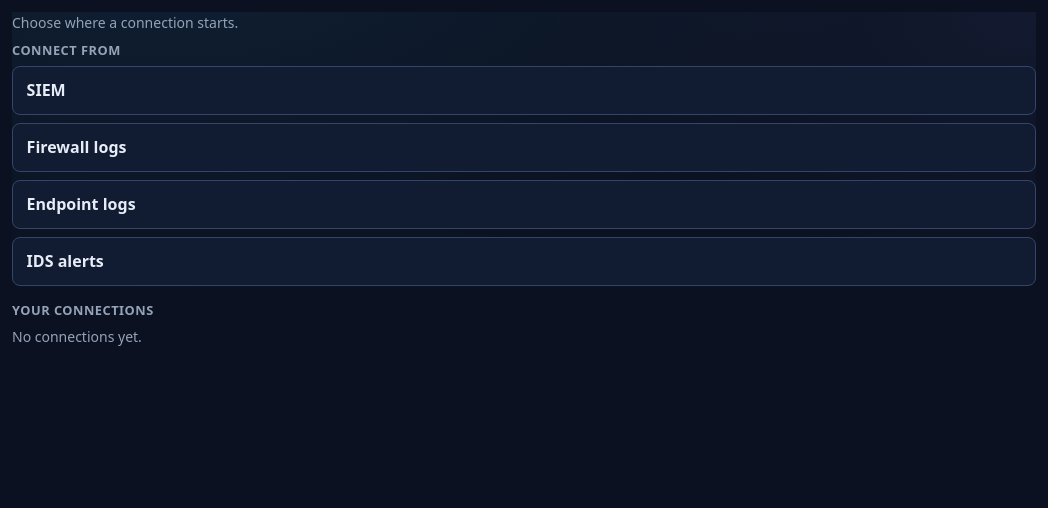
Test: MobileNodeConnection › resets the source and target after each relationship
Click the button "SIEM" at (46, 90), box [12, 66, 1036, 115]
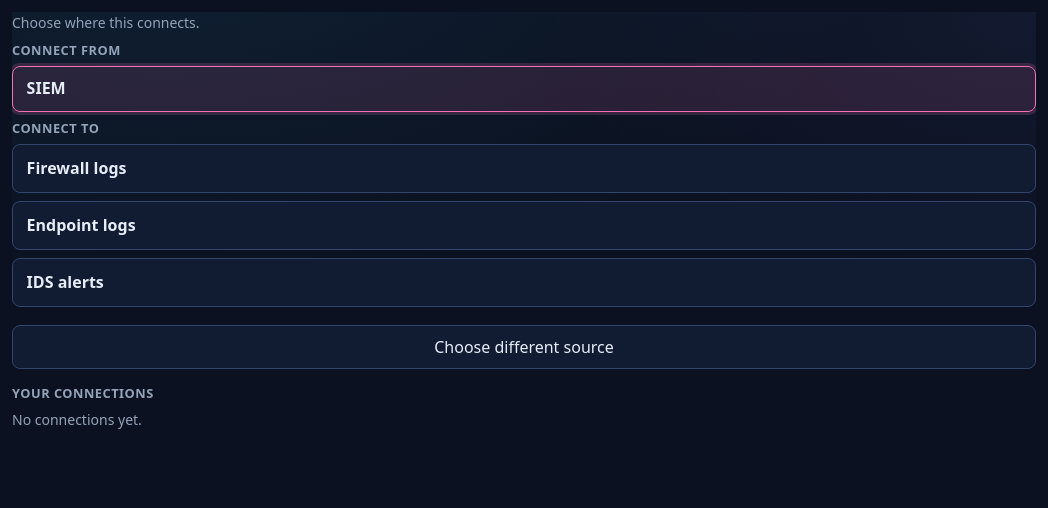
Result: the list named "Connect to" is shown at [12, 144, 1036, 307]
Click the button "Firewall logs" at (77, 168), box [12, 144, 1036, 193]
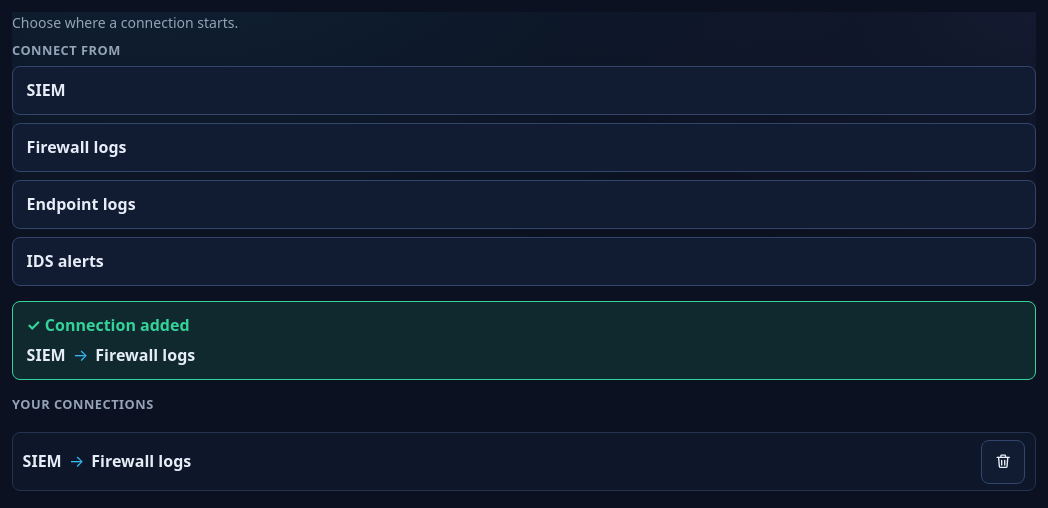
Result: the list named "Connect from" is shown at [12, 66, 1036, 286]
Result: the text "✓ Connection added" is shown at [27, 314, 190, 336]
